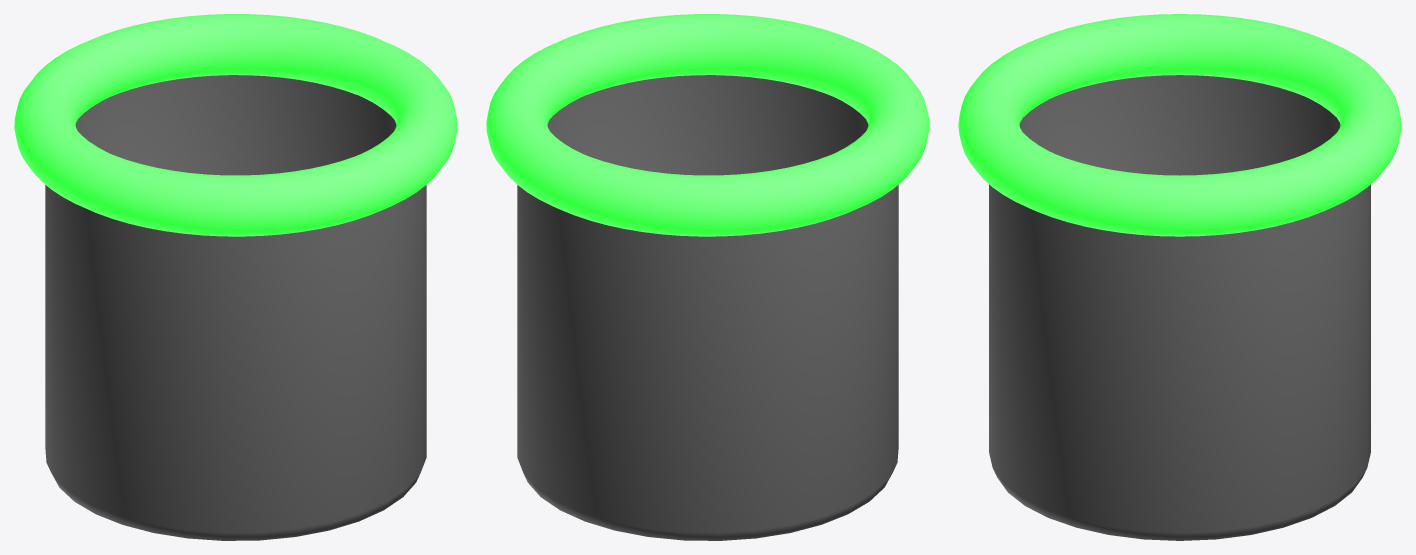
The model's file is Basket.fbx.
3 views of the same model, side by side, from view 1: azimuth 30°, elevation 25°; view 2: azimuth 150°, elevation 25°; view 3: azimuth 270°, elevation 25° (orthographic).
Parts seen in each view (by area): view 1: Basket; view 2: Basket; view 3: Basket.
Part boxes in pixels (bbox=[...]): Basket: bbox=[14, 14, 457, 540]; Basket: bbox=[486, 14, 929, 540]; Basket: bbox=[958, 14, 1401, 540].
Bounding box in the file's own units: 11.6 × 10.65 × 11.6.
